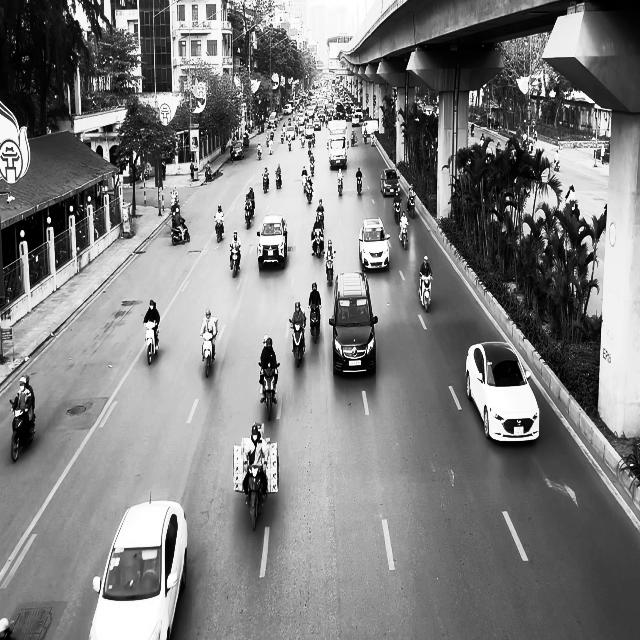car: (88, 493, 188, 639), (465, 341, 540, 443), (329, 271, 378, 376), (256, 214, 288, 270), (358, 217, 390, 271), (380, 168, 400, 196), (230, 140, 244, 160)
motorbike: (9, 398, 35, 462), (245, 463, 267, 530), (258, 362, 279, 420), (289, 316, 306, 367), (200, 332, 216, 378), (144, 320, 160, 364), (418, 273, 432, 312), (171, 218, 190, 245), (309, 304, 321, 343), (311, 227, 324, 257), (229, 245, 241, 277), (324, 252, 335, 286), (214, 216, 224, 242), (399, 222, 408, 250), (244, 203, 252, 229), (394, 198, 402, 224), (407, 194, 415, 218), (305, 181, 313, 203), (274, 170, 282, 189), (262, 175, 270, 193), (337, 176, 343, 196), (356, 175, 362, 195), (205, 167, 212, 181), (257, 147, 262, 160)
